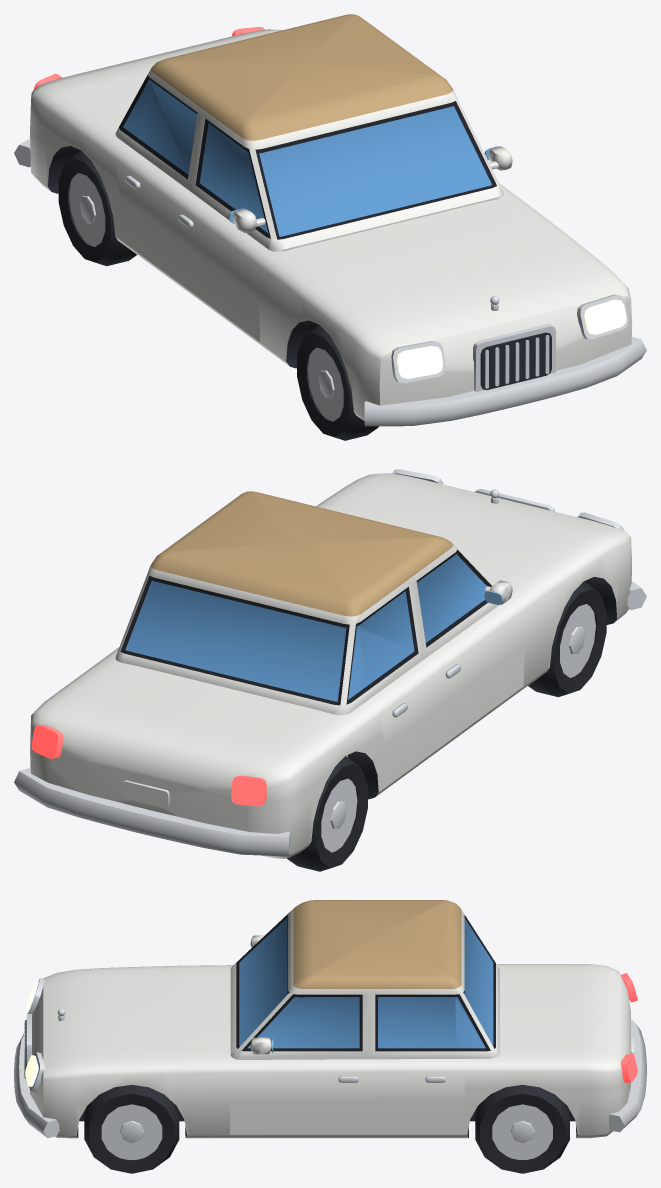
Rendered from sedan_luxo_branco.glb.
3 renders of one model, top to bottom at view 1: azimuth 30°, elevation 25°; view 2: azimuth 150°, elevation 25°; view 3: azimuth 270°, elevation 25°, orthographic. The views are drawn at different scales.
Parts seen in each view (by area): view 1: sedan_luxo_branco, porta_dianteira_esq, porta_traseira_esq, roda_traseira_esq, roda_dianteira_esq, porta_malas; view 2: sedan_luxo_branco, porta_malas, porta_dianteira_esq, porta_traseira_esq, roda_traseira_esq, roda_dianteira_esq; view 3: sedan_luxo_branco, porta_dianteira_dir, porta_traseira_dir, porta_malas, roda_dianteira_dir, roda_traseira_dir.
Part boxes in pixels (<box>): sedan_luxo_branco: <box>14,14,646,426</box>; porta_dianteira_esq: <box>174,115,275,336</box>; porta_traseira_esq: <box>121,77,201,279</box>; roda_traseira_esq: <box>58,150,136,266</box>; roda_dianteira_esq: <box>297,325,378,440</box>; porta_malas: <box>57,32,261,120</box>; sedan_luxo_branco: <box>14,469,646,858</box>; porta_malas: <box>55,668,319,795</box>; porta_dianteira_esq: <box>413,548,517,747</box>; porta_traseira_esq: <box>358,584,439,786</box>; roda_traseira_esq: <box>287,756,367,871</box>; roda_dianteira_esq: <box>528,581,606,697</box>; sedan_luxo_branco: <box>14,900,646,1138</box>; porta_dianteira_dir: <box>240,992,368,1134</box>; porta_traseira_dir: <box>369,994,455,1134</box>; porta_malas: <box>507,972,630,1058</box>; roda_dianteira_dir: <box>84,1085,179,1173</box>; roda_traseira_dir: <box>475,1085,569,1173</box>.
Size of the model in its own units: 2.08 by 1.64 by 4.94.
Materials: 4 (1 with a texture image).
